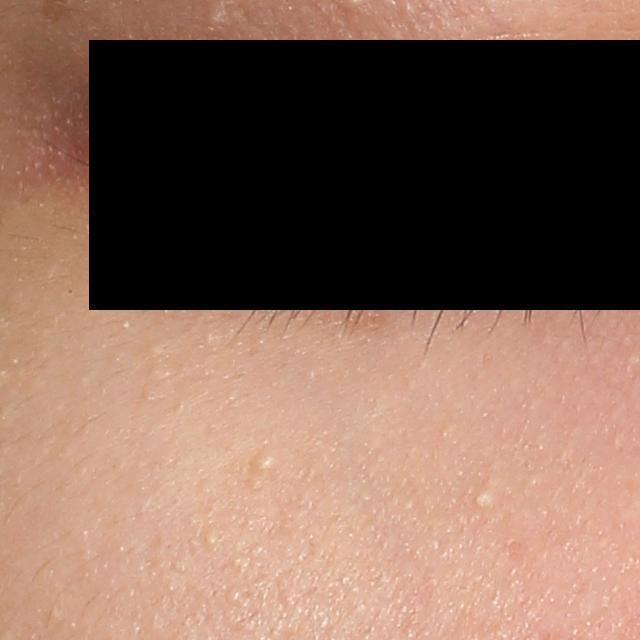other: (473, 487, 496, 514), (250, 449, 277, 472), (201, 525, 221, 548)
